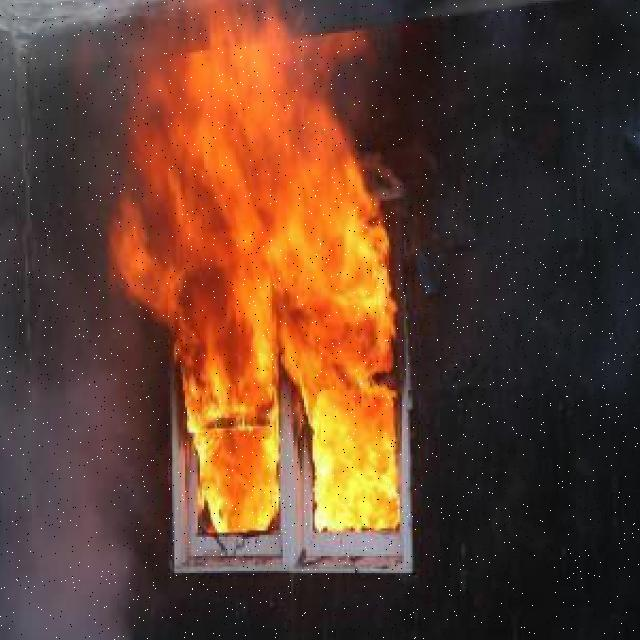fire: (132, 8, 402, 544)
smoke: (0, 381, 153, 640)
